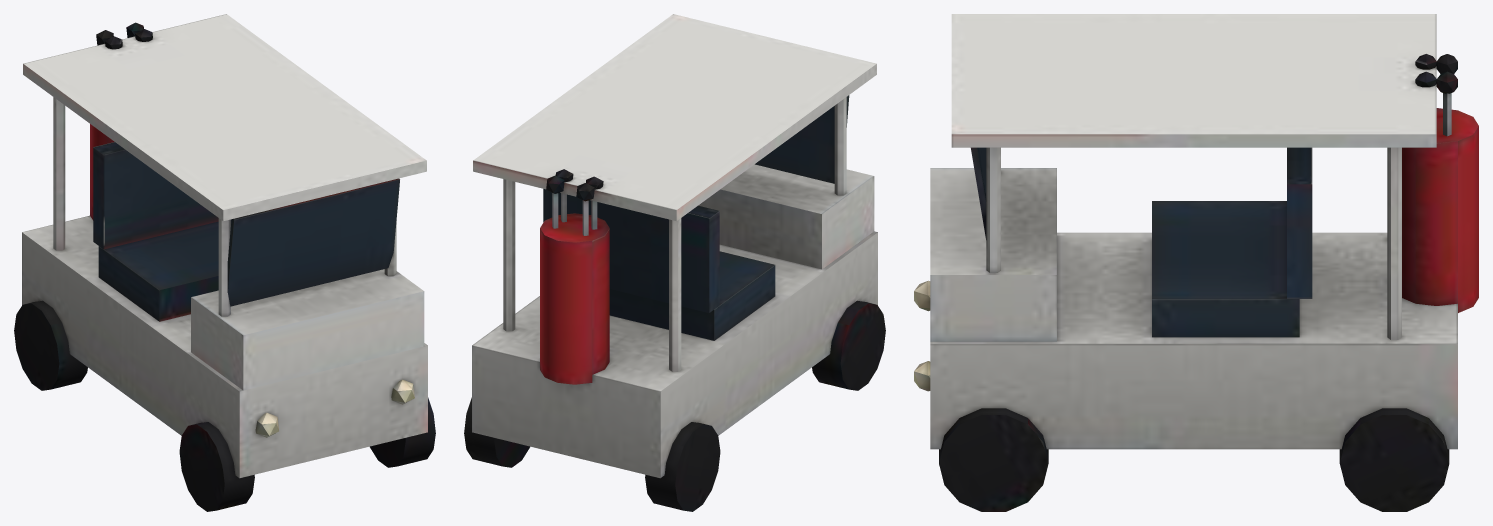
File: carrito_parado.glb
The picture shows the model from 3 angles, left to right: view 1: azimuth 30°, elevation 25°; view 2: azimuth 150°, elevation 25°; view 3: azimuth 270°, elevation 25°; orthographic projection. The views are drawn at different scales.
Visible parts, largest first — view 1: carrito_parado; view 2: carrito_parado; view 3: carrito_parado.
Part boxes in pixels (left/top/right/bottom): carrito_parado: left=14, top=14, right=435, bottom=511; carrito_parado: left=464, top=14, right=885, bottom=511; carrito_parado: left=914, top=14, right=1478, bottom=511.
Bounding box in the file's own units: 1.4 × 2.02 × 2.68.
1 material, 1 textured.
